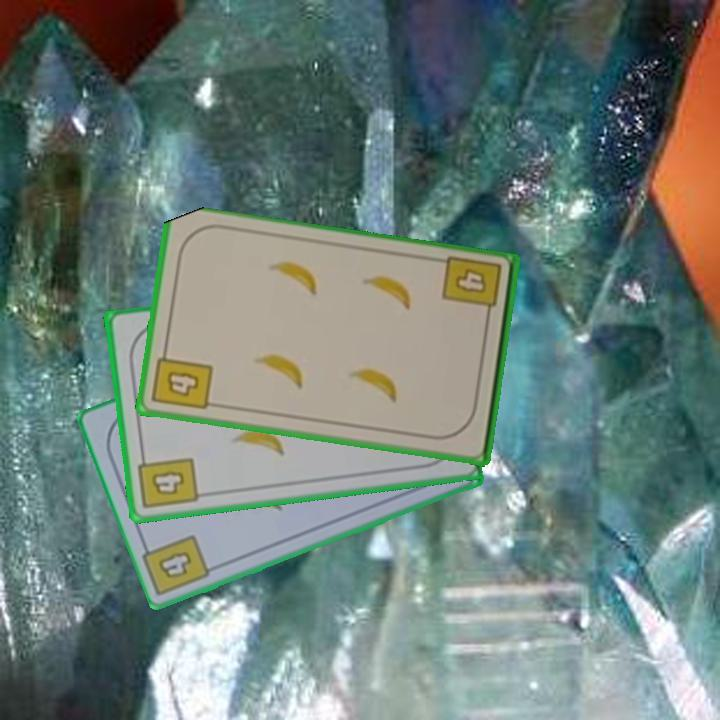4b: (439, 253, 505, 325), (149, 344, 216, 413), (135, 448, 201, 513), (154, 548, 195, 582)
